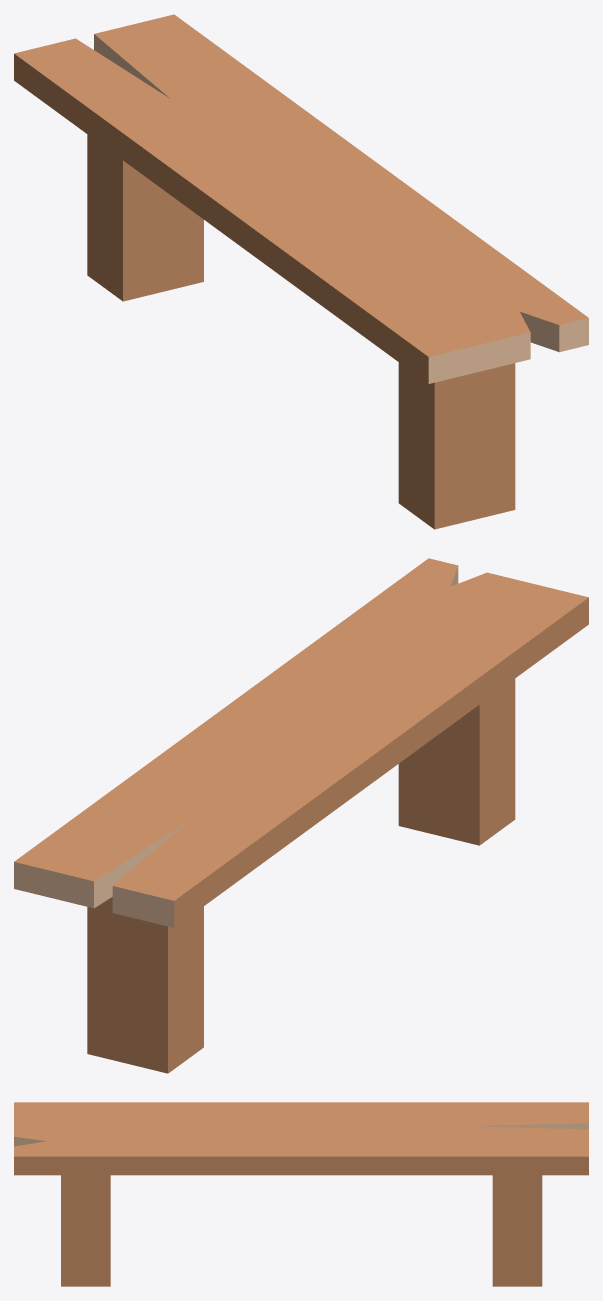
File: bench.fbx
3 renders of one model, top to bottom at view 1: azimuth 30°, elevation 25°; view 2: azimuth 150°, elevation 25°; view 3: azimuth 270°, elevation 25°, orthographic. The views are drawn at different scales.
Parts seen in each view (by area): view 1: Bench; view 2: Bench; view 3: Bench.
Boxes of the visible parts, left/top/right/bottom form: Bench: left=14, top=14, right=588, bottom=529; Bench: left=14, top=558, right=588, bottom=1073; Bench: left=14, top=1102, right=588, bottom=1286.
Size of the model in its own units: 49.51 by 61.11 by 222.
